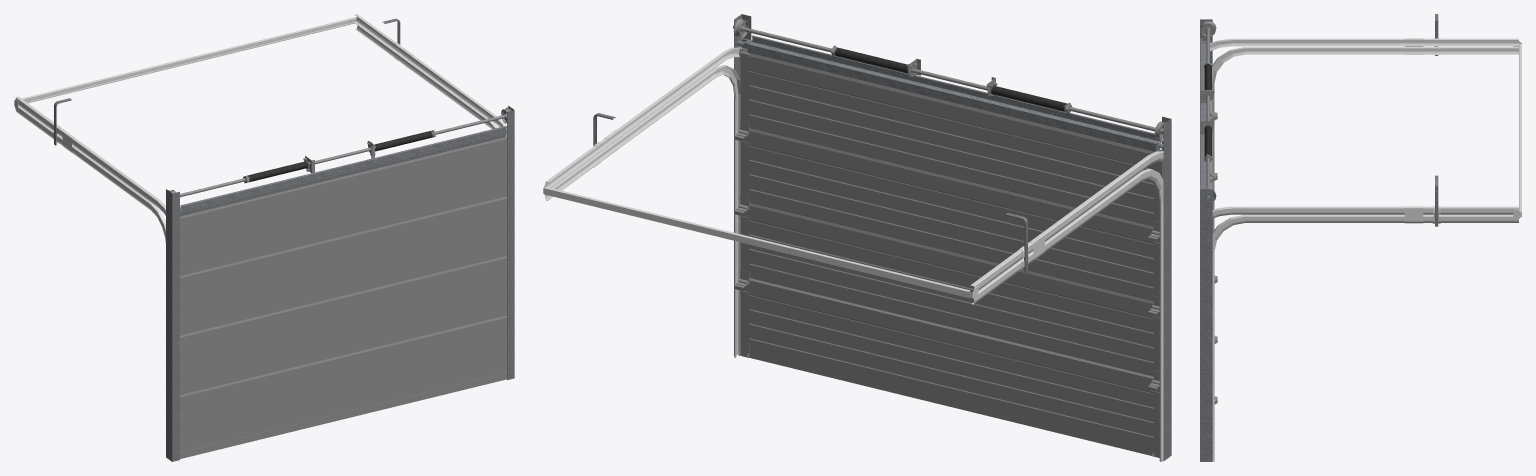
3 views of the same model, side by side, from view 1: azimuth 30°, elevation 25°; view 2: azimuth 150°, elevation 25°; view 3: azimuth 270°, elevation 25° (orthographic). The views are drawn at different scales.
Parts seen in each view (by area): view 1: Shape014, Line002, Line070, Rectangle006, Rectangle010, Rectangle001, Line066, Line034, Line006, Line033, Line005, Circle001; view 2: Shape014, Line002, Line005, Rectangle001, Rectangle010, Rectangle006, Line033, Line070, Line006, Line034, Circle001, Cylinder011 (+2 smaller); view 3: Line066, Line005, Line033, Line034, Line006, Line002, Rectangle001, Circle001, Line019.
Part boxes in pixels (left/top/right/bottom): Shape014: left=180, top=132, right=506, bottom=452; Line002: left=180, top=126, right=506, bottom=216; Line070: left=166, top=189, right=179, bottom=461; Rectangle006: left=180, top=139, right=506, bottom=225; Rectangle010: left=180, top=372, right=506, bottom=458; Rectangle001: left=22, top=17, right=356, bottom=103; Line066: left=507, top=105, right=514, bottom=380; Line034: left=15, top=96, right=165, bottom=215; Line006: left=354, top=14, right=506, bottom=128; Line033: left=15, top=105, right=165, bottom=243; Line005: left=355, top=22, right=497, bottom=129; Circle001: left=180, top=115, right=505, bottom=197; Shape014: left=742, top=47, right=1163, bottom=447; Line002: left=747, top=35, right=1159, bottom=151; Line005: left=545, top=65, right=740, bottom=357; Rectangle001: left=544, top=187, right=970, bottom=297; Rectangle010: left=749, top=349, right=1153, bottom=455; Rectangle006: left=749, top=56, right=1150, bottom=159; Line033: left=972, top=168, right=1163, bottom=461; Line070: left=1162, top=116, right=1171, bottom=460; Line006: left=545, top=47, right=742, bottom=187; Line034: left=970, top=151, right=1163, bottom=290; Circle001: left=733, top=25, right=1155, bottom=131; Cylinder011: left=991, top=86, right=1067, bottom=111; Line066: left=1200, top=186, right=1212, bottom=461; Line005: left=1212, top=214, right=1518, bottom=461; Line033: left=1210, top=47, right=1518, bottom=231; Line034: left=1210, top=38, right=1518, bottom=50; Line006: left=1212, top=206, right=1518, bottom=218; Line002: left=1200, top=38, right=1206, bottom=189; Rectangle001: left=1519, top=44, right=1521, bottom=212; Circle001: left=1206, top=29, right=1209, bottom=199; Line019: left=1404, top=206, right=1423, bottom=223.
Size of the model in its own units: 3019 by 2289 by 2393.
8 materials, 3 textured.
